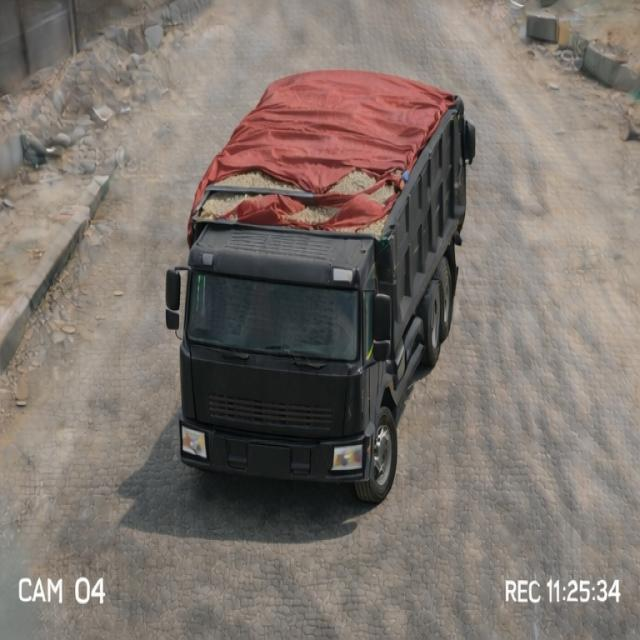Box: (191, 70, 471, 228)
Truck: (164, 63, 498, 510)
